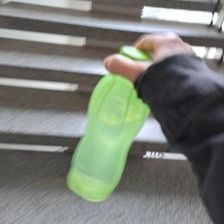bottle: (66, 44, 153, 201)
